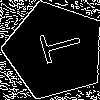T: (29, 25, 84, 68)
